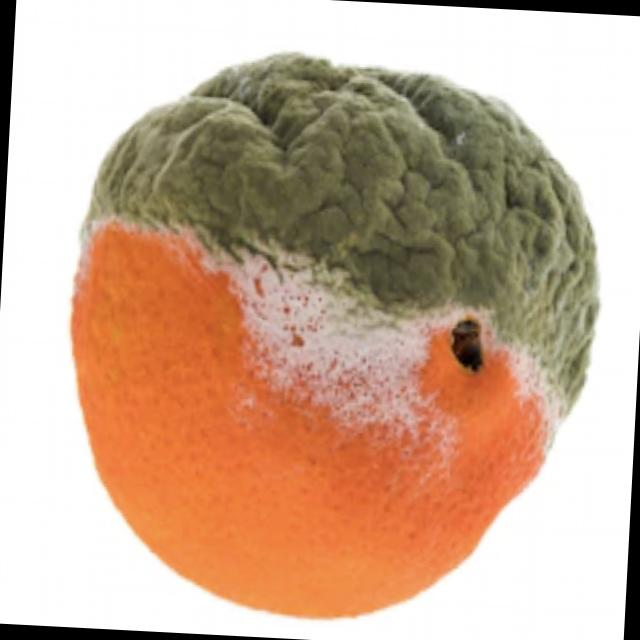rotten-orange: (58, 45, 610, 629)
